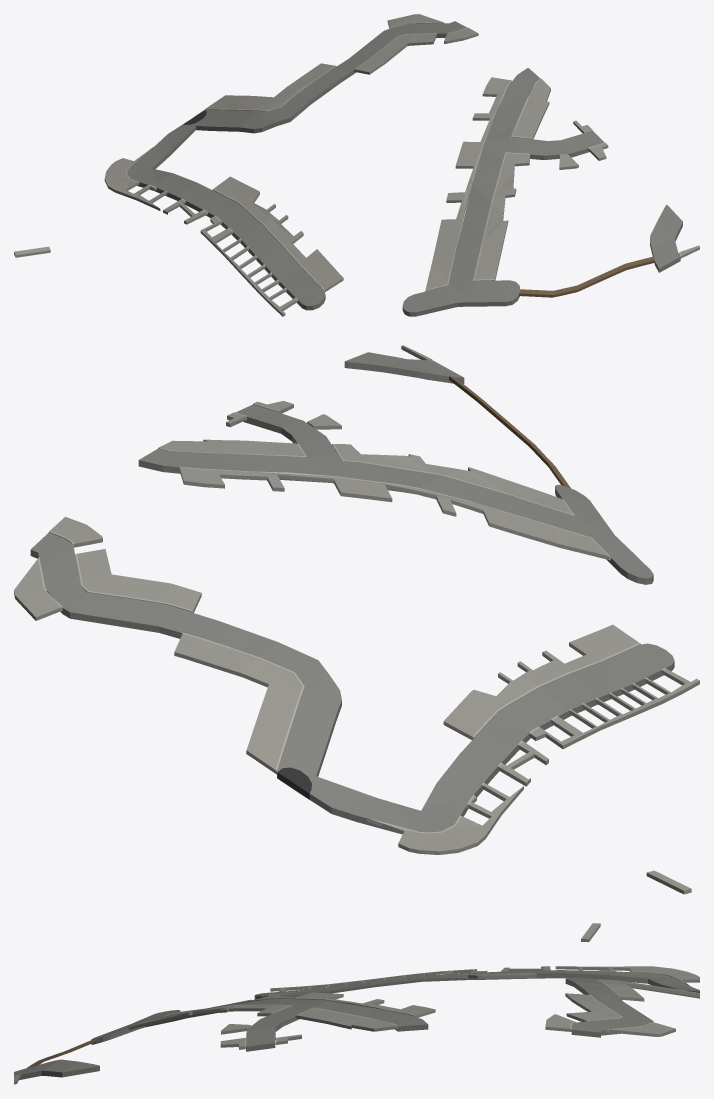
The model's file is 18-218882-118974.a65bdd0f.glb.
3 views of the same model, one above another, from view 1: azimuth 30°, elevation 25°; view 2: azimuth 150°, elevation 25°; view 3: azimuth 270°, elevation 25° (orthographic). The views are drawn at different scales.
Bounding box in the file's own units: 128 × 36.86 × 146.
